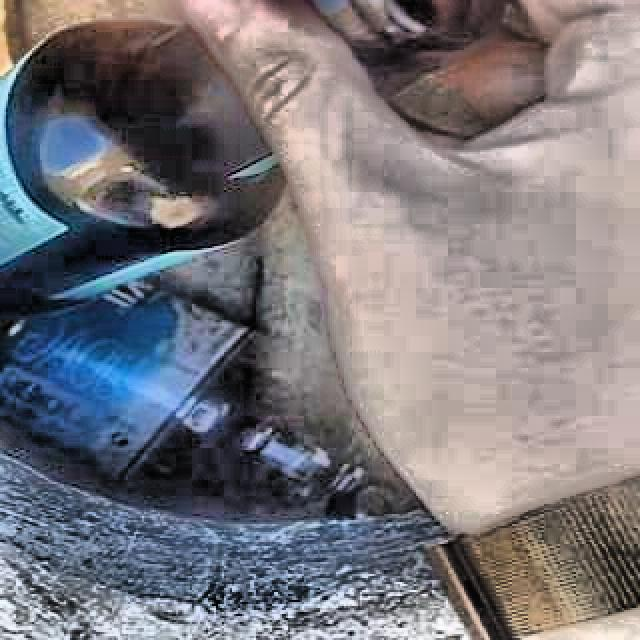glass: (0, 22, 283, 314), (295, 0, 504, 95)
